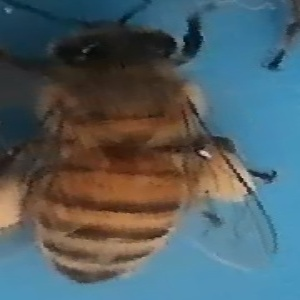bee: (13, 19, 282, 285)
